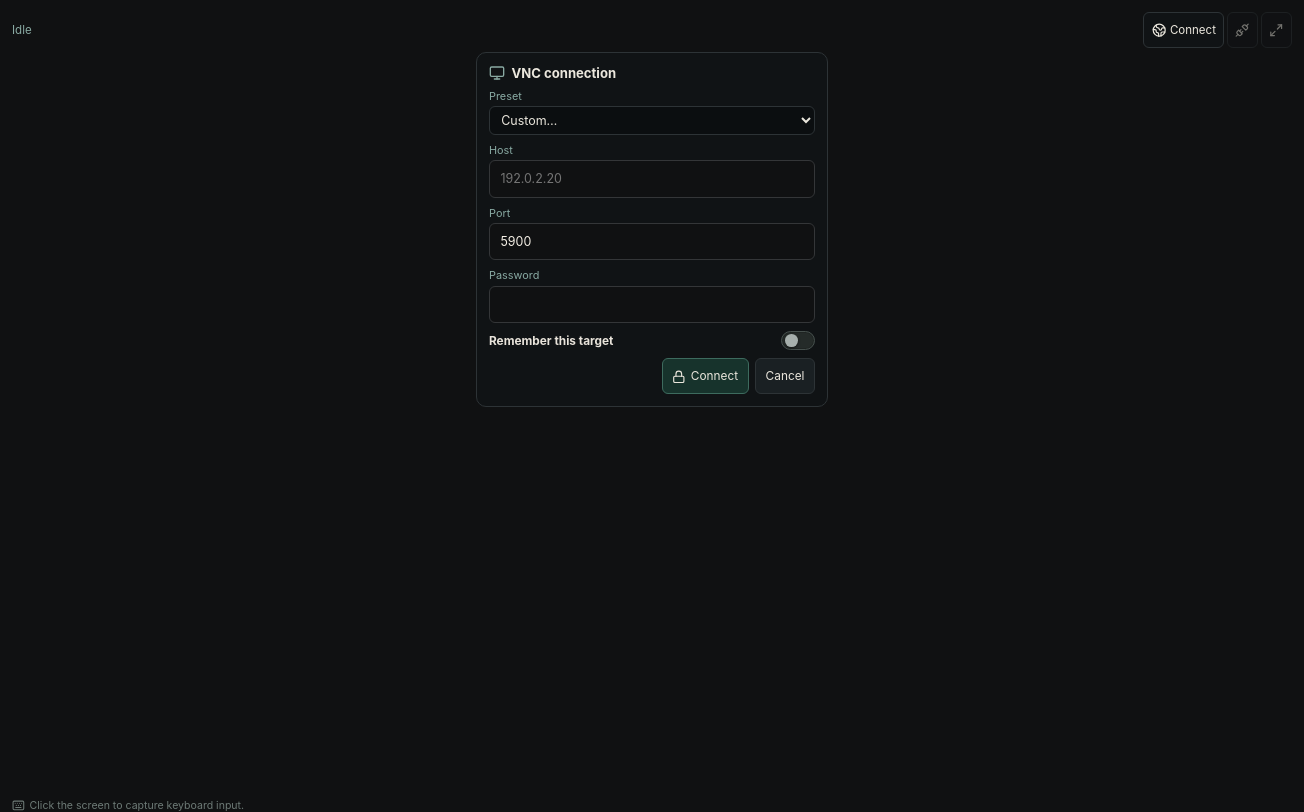
Test: VncPane › applies a preset to host and port fields
This screenshot has width=1304, height=812.
Step 1. Select "public-host Desktop" in the dropdown labelled "Preset" → point(652, 120), box left=489, top=106, right=815, bottom=135
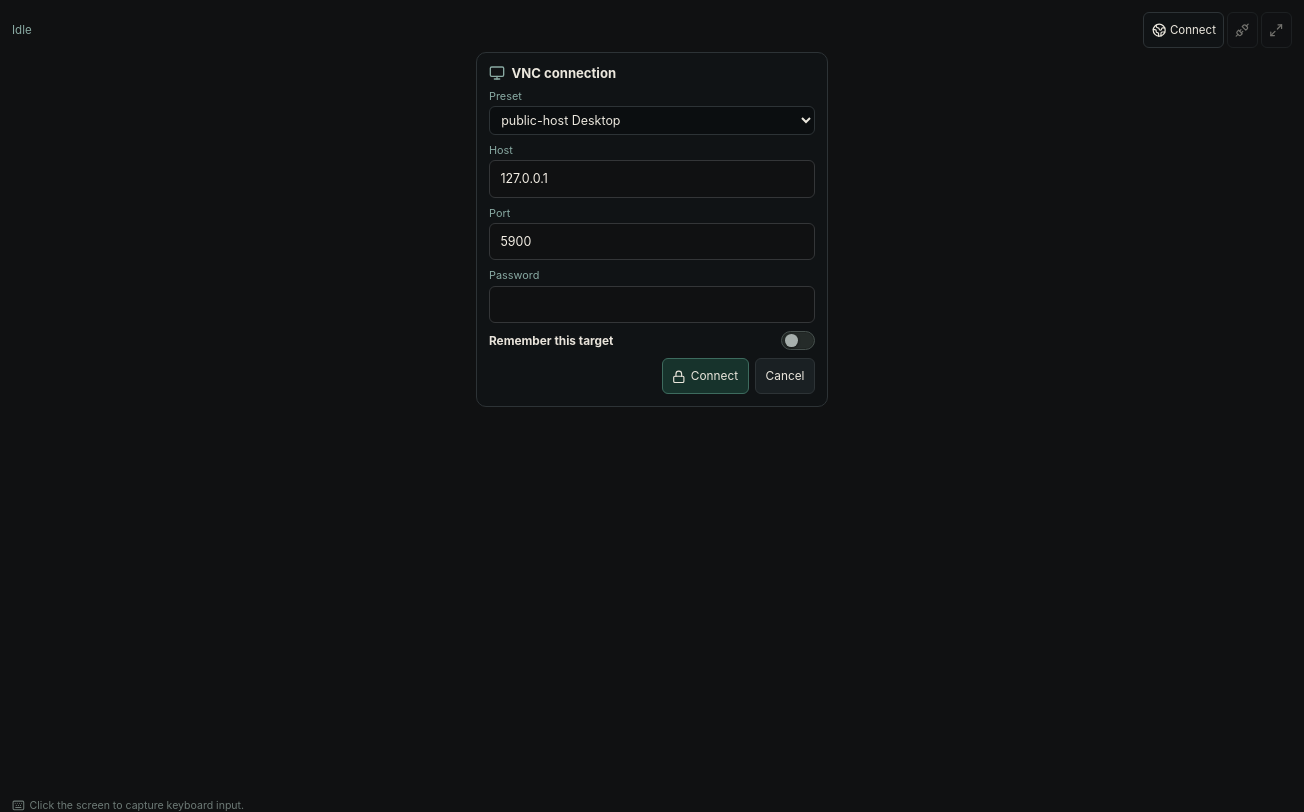
Expected: the field labelled "Port" holds "5900", left=489, top=223, right=815, bottom=260
Expected: the field labelled "Host" holds "127.0.0.1", left=489, top=160, right=815, bottom=198
